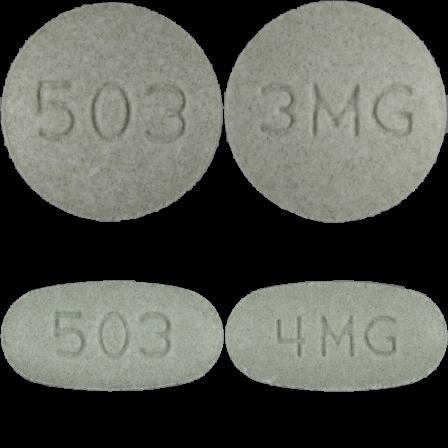54092-517: (0, 0, 224, 224)
